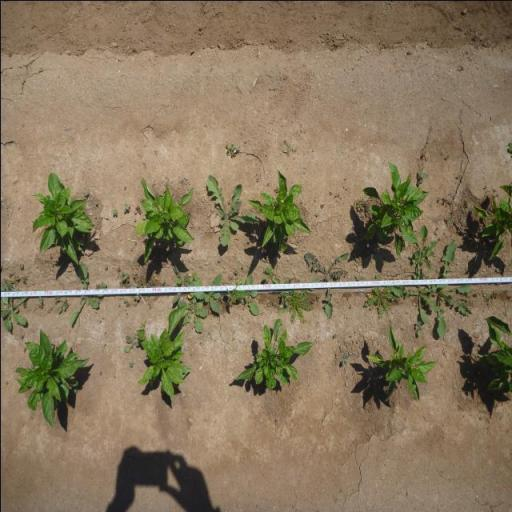plant: (13, 328, 90, 430), (30, 172, 92, 264), (236, 320, 313, 390), (137, 306, 192, 400), (363, 162, 417, 254), (137, 176, 194, 261), (254, 171, 312, 252), (365, 336, 438, 400), (470, 314, 512, 396), (475, 182, 512, 260)
weed: (204, 173, 254, 246), (433, 241, 470, 338), (306, 252, 350, 318), (392, 263, 440, 321), (68, 262, 106, 326), (0, 281, 28, 332), (413, 223, 436, 276), (279, 288, 312, 322), (364, 284, 396, 318), (196, 273, 222, 313), (169, 260, 193, 303), (178, 300, 207, 334), (240, 272, 260, 317), (226, 278, 244, 300), (52, 294, 70, 314), (122, 334, 140, 353), (261, 266, 280, 284), (224, 142, 240, 158), (282, 138, 296, 156), (119, 270, 130, 288), (484, 290, 500, 302), (416, 168, 426, 184), (340, 352, 350, 367), (438, 196, 452, 206), (414, 320, 422, 337), (278, 291, 288, 304), (354, 200, 364, 211), (461, 292, 472, 302), (144, 278, 154, 288), (310, 293, 320, 303), (94, 282, 108, 288), (122, 202, 130, 212), (38, 295, 43, 309), (133, 292, 141, 300), (135, 280, 143, 288), (372, 272, 380, 280), (134, 205, 141, 214), (123, 298, 129, 308), (20, 277, 28, 284), (110, 208, 118, 215), (139, 320, 146, 328), (271, 300, 277, 308), (463, 200, 468, 208), (82, 190, 88, 196), (232, 268, 238, 274), (7, 272, 12, 278), (132, 272, 137, 278), (273, 186, 278, 192), (446, 216, 451, 222), (116, 265, 120, 272), (18, 263, 22, 270), (128, 361, 133, 366), (14, 274, 18, 280), (4, 380, 8, 386), (320, 202, 324, 208), (335, 192, 339, 198), (382, 258, 386, 264), (436, 236, 440, 242), (332, 334, 336, 339), (328, 190, 332, 195), (240, 264, 243, 269), (98, 371, 101, 375), (315, 212, 318, 216), (435, 226, 438, 230)
